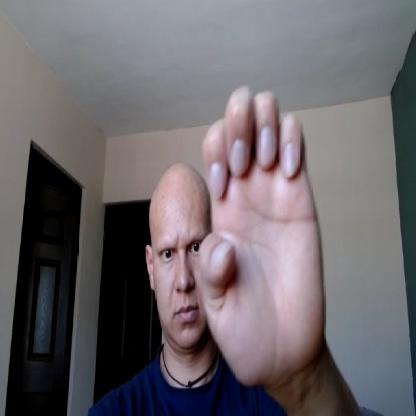E: (195, 84, 324, 386)
